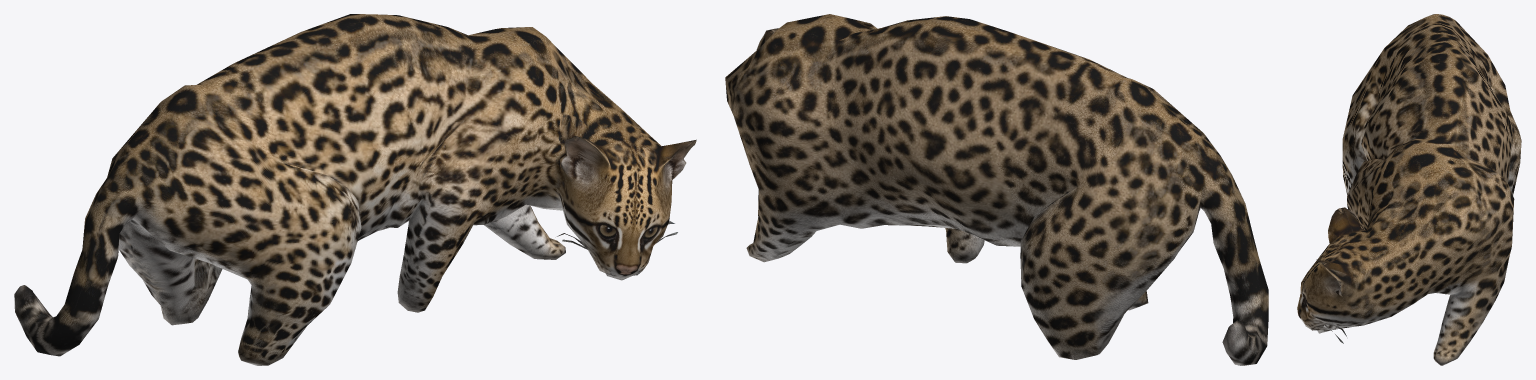
The model's file is jaguatirica_med.glb.
3 renders of one model, left to right at view 1: azimuth 30°, elevation 25°; view 2: azimuth 150°, elevation 25°; view 3: azimuth 270°, elevation 25°, orthographic. The views are drawn at different scales.
Bounding box in the file's own units: 0.9575 × 0.4512 × 0.4004.
Materials: 1 (1 with a texture image).
